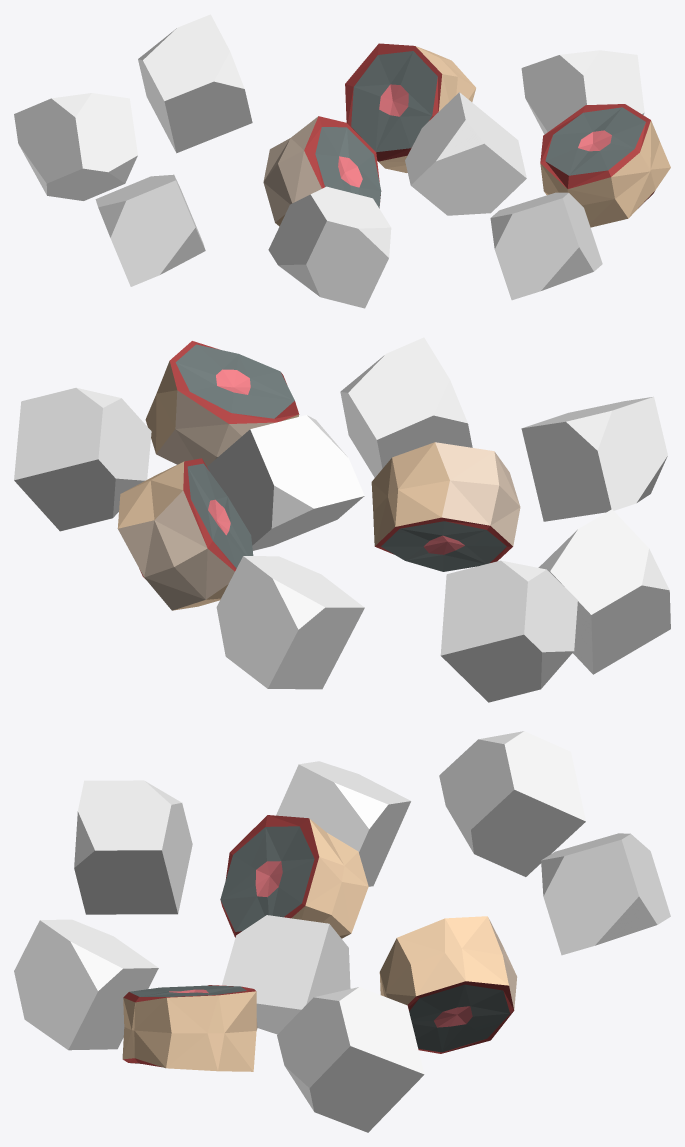
File: MeatFish_Soup.fbx
3 views of the same model, one above another, from view 1: azimuth 30°, elevation 25°; view 2: azimuth 150°, elevation 25°; view 3: azimuth 270°, elevation 25° (orthographic). The views are drawn at different scales.
Visible parts, largest first — view 1: Diced Beef.003; view 2: Diced Beef.003; view 3: Diced Beef.003.
Boxes of the visible parts, <box> form: Diced Beef.003: <box>14,14,670,308</box>; Diced Beef.003: <box>14,337,670,702</box>; Diced Beef.003: <box>14,731,670,1132</box>.
Size of the model in its own units: 86.22 by 78.97 by 21.48.
